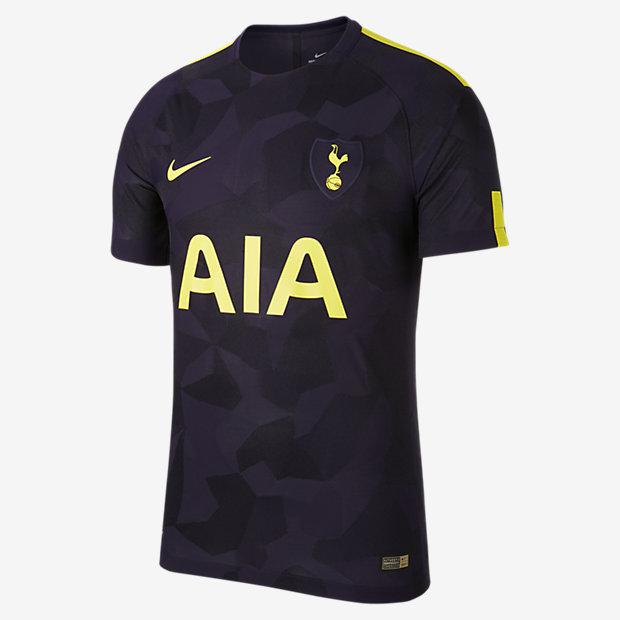teeshirt: (88, 10, 529, 620)
